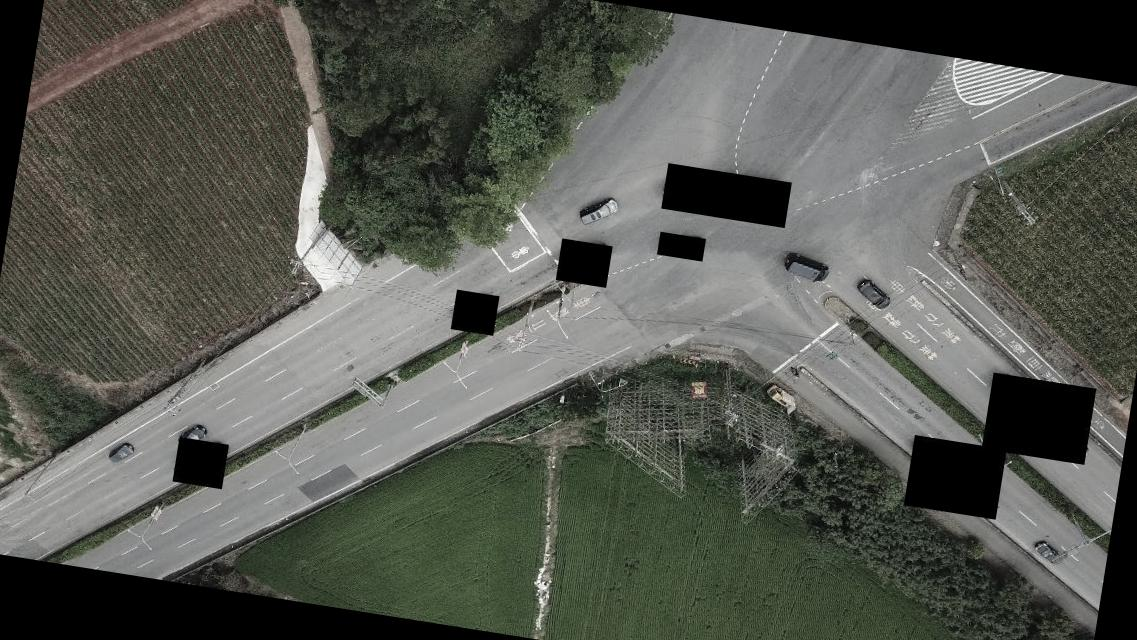vehicle: (780, 250, 833, 284), (578, 194, 620, 230), (853, 276, 891, 312), (105, 439, 136, 468), (764, 382, 796, 408), (178, 424, 208, 449), (1032, 542, 1060, 564)
